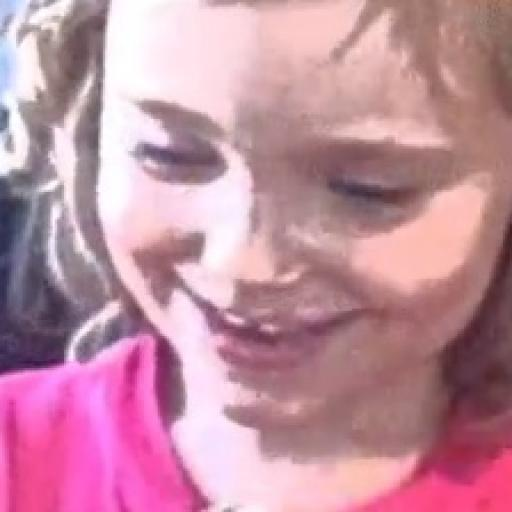Autism: (56, 8, 512, 438)
